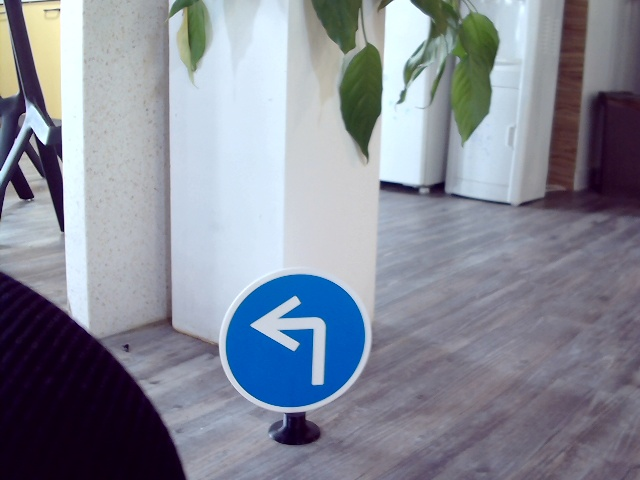turn_left: (251, 292, 331, 386)
